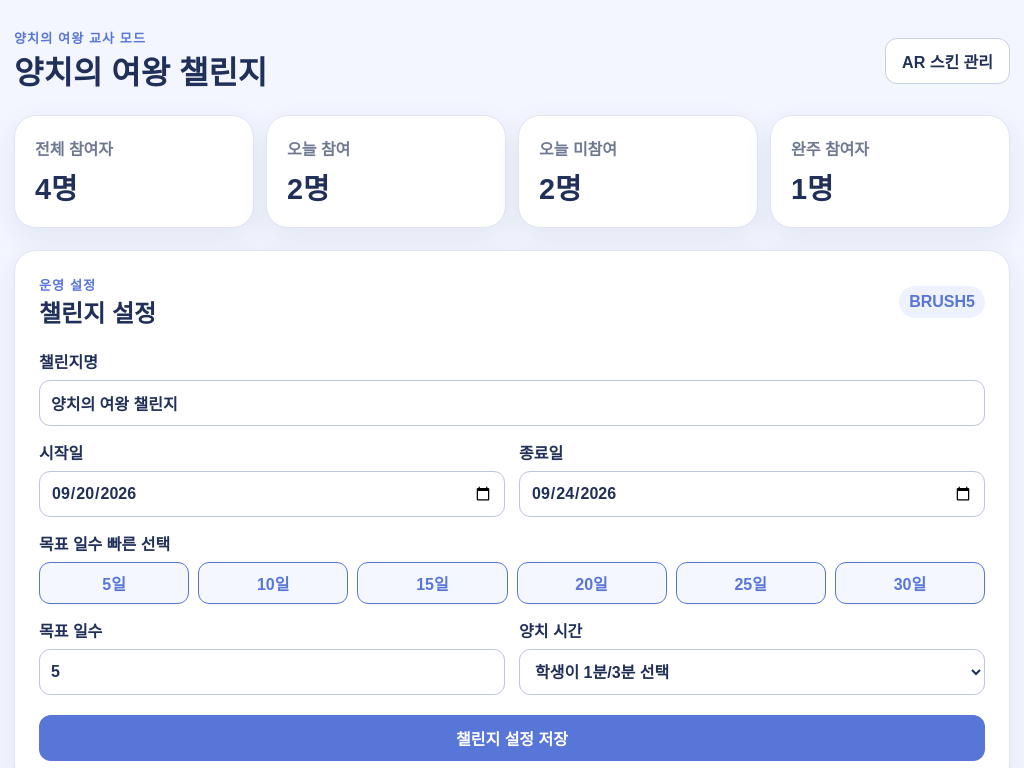
Test: TeacherDashboard › offers every five-day preset and applies fifteen days before saving
The image size is (1024, 768).
Check: the element "전체 참여자" shows "4명", box [14, 115, 254, 228]
Check: the text "양치의 여왕 교사 모드" is shown, box [14, 31, 146, 46]
What coordinates should you click on to do the following:
click the button "15일"
I would click on:
 (432, 583)
Its box is [357, 562, 508, 604].
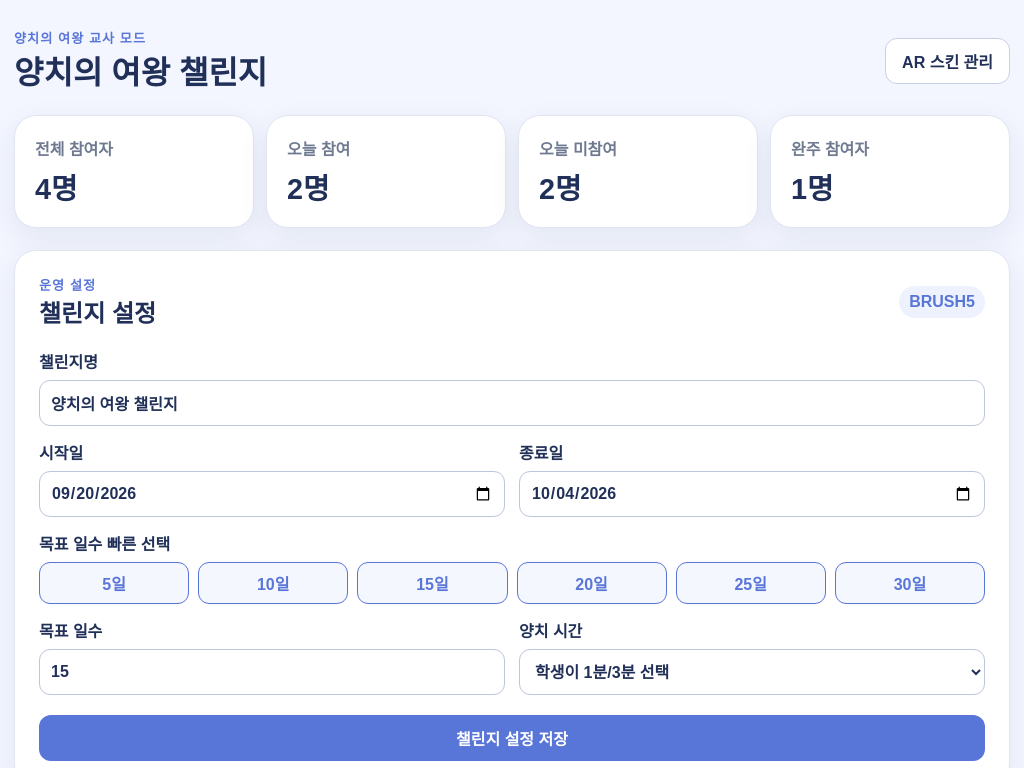
Check: the number field labelled "목표 일수" holds "15", box [39, 649, 505, 695]
Check: the date field labelled "종료일" holds "2026-10-04", box [519, 471, 985, 517]
What coordinates should you click on to do the following:
click the button "챌린지 설정 저장"
I would click on:
 (512, 738)
Its box is [39, 715, 985, 761].
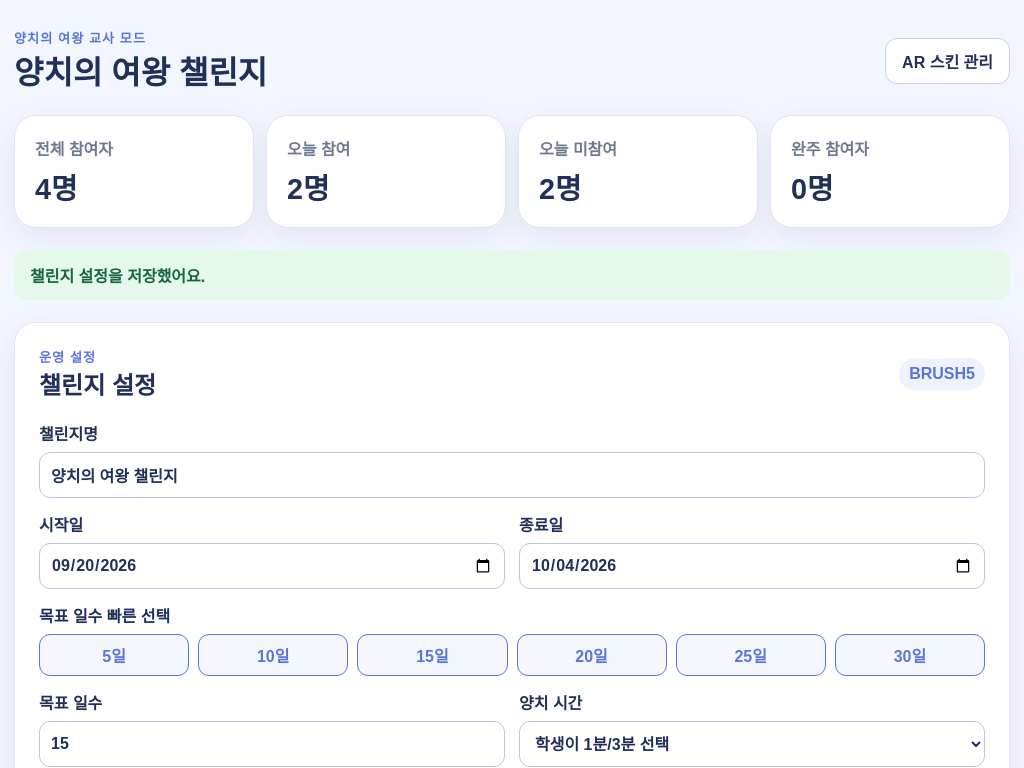
Check: the text "챌린지 설정을 저장했어요." is shown, box [14, 250, 1010, 300]
Check: the element "완주 참여자" shows "0명", box [770, 115, 1010, 228]
